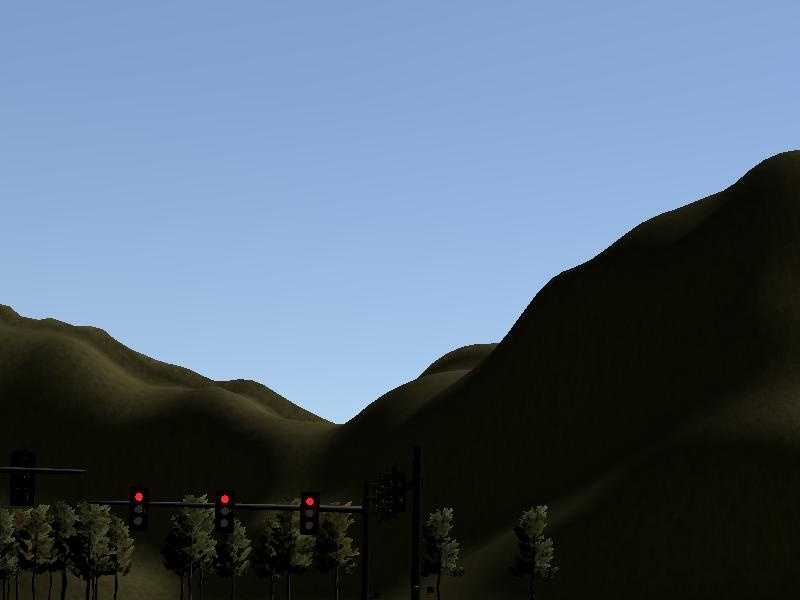RED: (129, 487, 148, 533), (214, 488, 233, 534), (299, 492, 318, 538)
